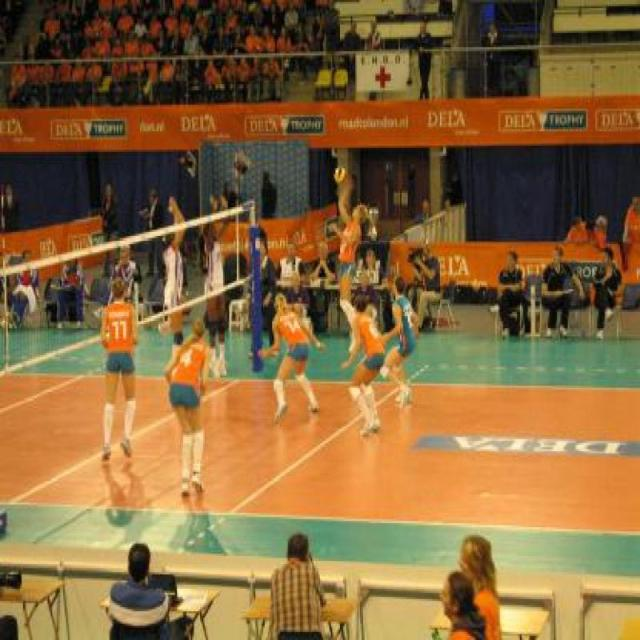volleyball: (332, 164, 346, 181)
